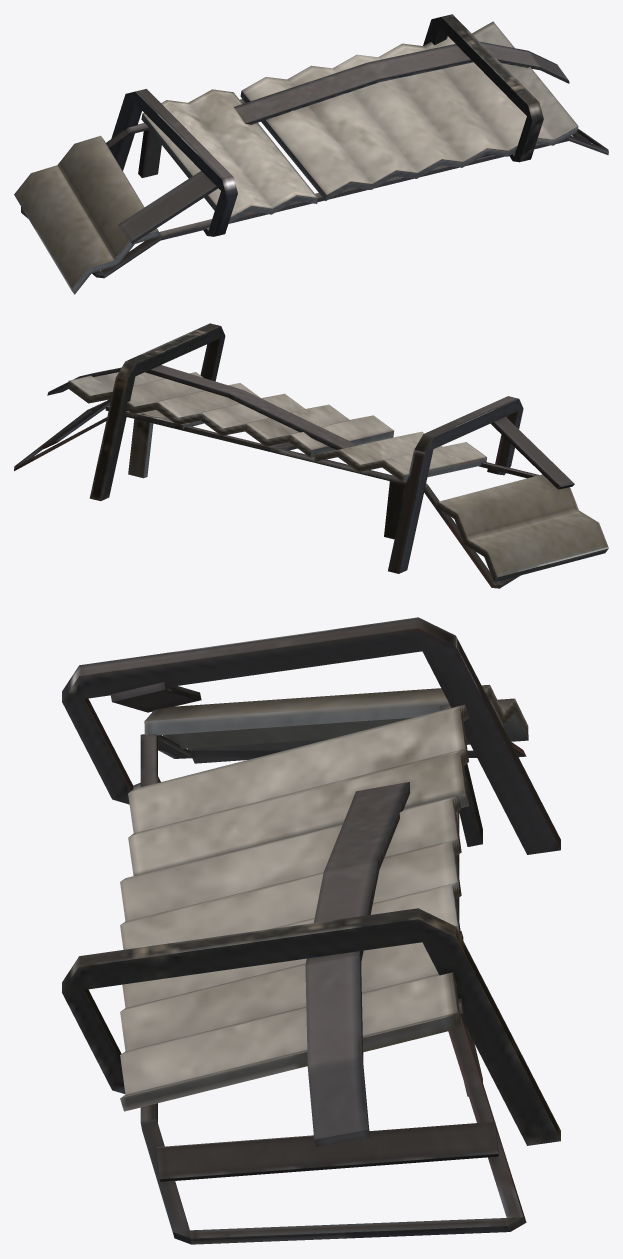
File: FordCrownVic92Bumper_WorldItem.fbx
3 views of the same model, one above another, from view 1: azimuth 30°, elevation 25°; view 2: azimuth 150°, elevation 25°; view 3: azimuth 270°, elevation 25° (orthographic). The views are drawn at different scales.
Parts seen in each view (by area): view 1: FrontBumper_obj; view 2: FrontBumper_obj; view 3: FrontBumper_obj.
Part boxes in pixels (x1,y1,x2,y2): FrontBumper_obj: (14, 14, 608, 294); FrontBumper_obj: (14, 323, 608, 588); FrontBumper_obj: (62, 617, 560, 1244).
Size of the model in its own units: 3.53 by 0.8343 by 1.46.
